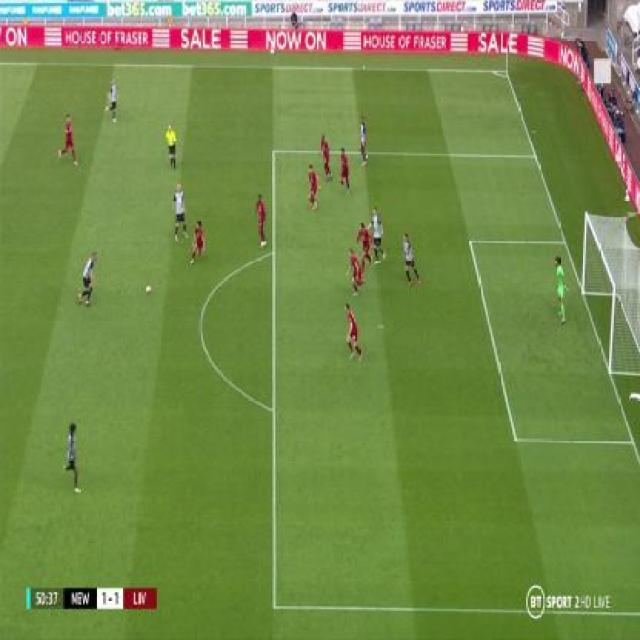ball: (145, 282, 153, 295)
player: (62, 420, 84, 496), (342, 300, 364, 365), (76, 248, 99, 310), (56, 111, 81, 167), (368, 203, 387, 266), (400, 228, 420, 287), (553, 255, 569, 328), (171, 183, 190, 243), (355, 219, 374, 272), (253, 192, 270, 251), (346, 247, 362, 301), (319, 133, 335, 184), (304, 163, 320, 212), (105, 75, 121, 123), (190, 218, 206, 266), (356, 113, 370, 167), (337, 145, 351, 196), (165, 123, 179, 171)
